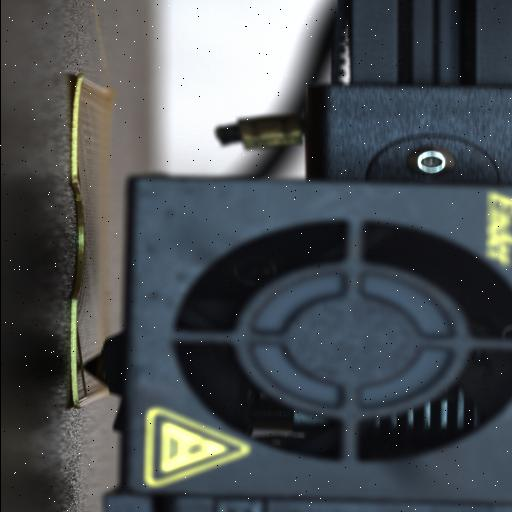warp: (64, 68, 86, 98), (62, 384, 84, 412)
